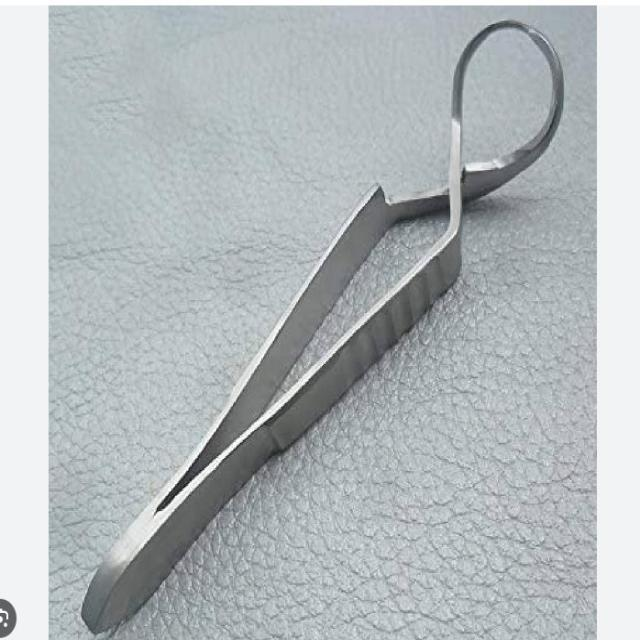Jones Towel Clamp: (71, 15, 566, 636)
